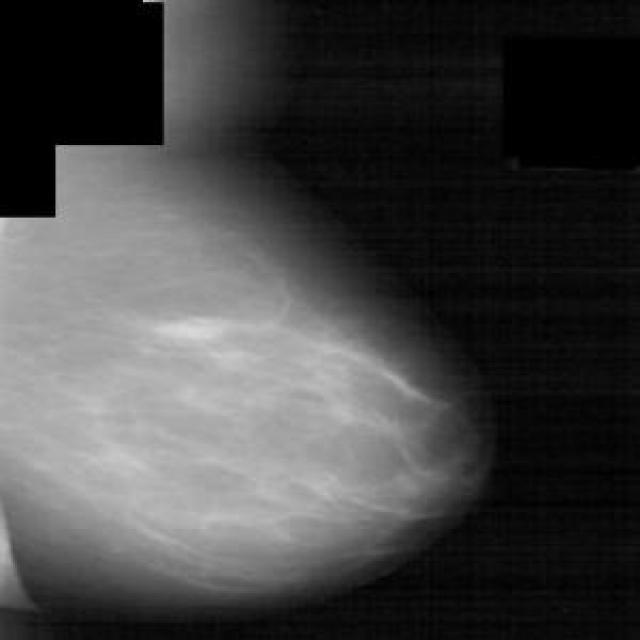tumor: (156, 306, 429, 426)
